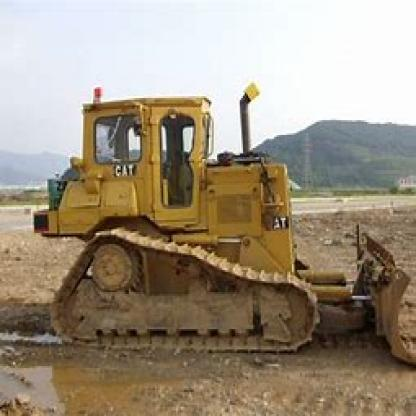bull_dozer/loader/grader: (27, 74, 413, 366)
